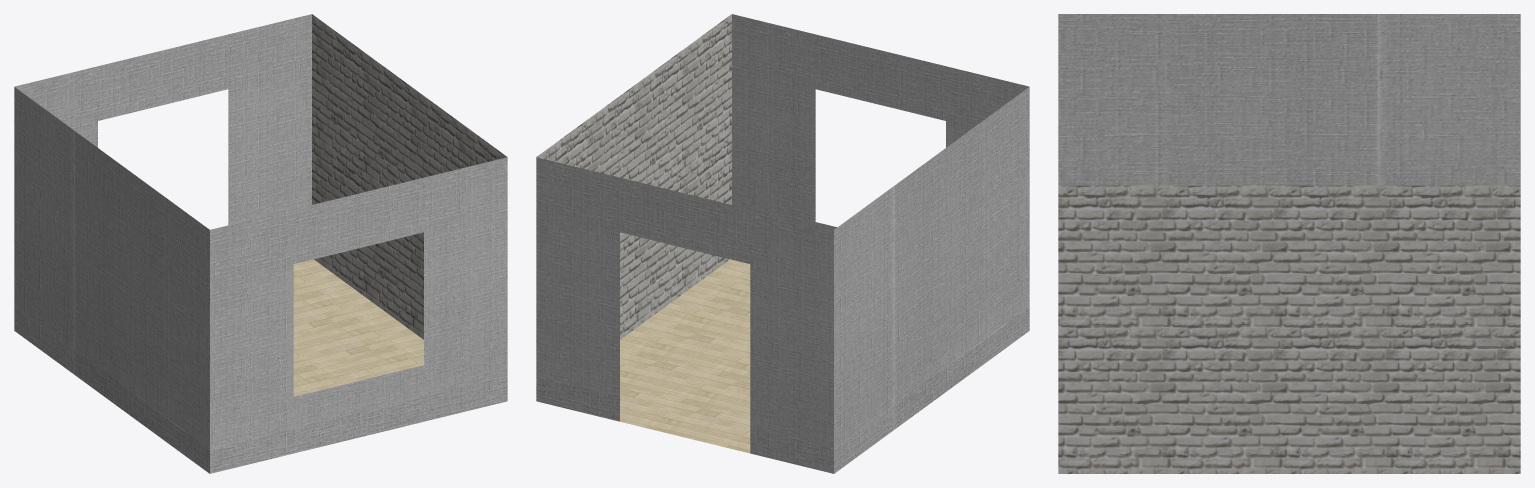
Rendered from RoomB.obj.
The picture shows the model from 3 angles, left to right: view 1: azimuth 30°, elevation 25°; view 2: azimuth 150°, elevation 25°; view 3: azimuth 270°, elevation 25°; orthographic projection. The views are drawn at different scales.
Parts seen in each view (by area): view 1: Плоскость.035_Плоскость.010; view 2: Плоскость.035_Плоскость.010; view 3: Плоскость.035_Плоскость.010.
Part boxes in pixels (box(x1,y1,x2,y2)): Плоскость.035_Плоскость.010: box(14, 14, 507, 473); Плоскость.035_Плоскость.010: box(536, 14, 1029, 473); Плоскость.035_Плоскость.010: box(1058, 14, 1520, 473).
Size of the model in its own units: 6.76 by 5.3 by 7.69.
1 material, 1 textured.
